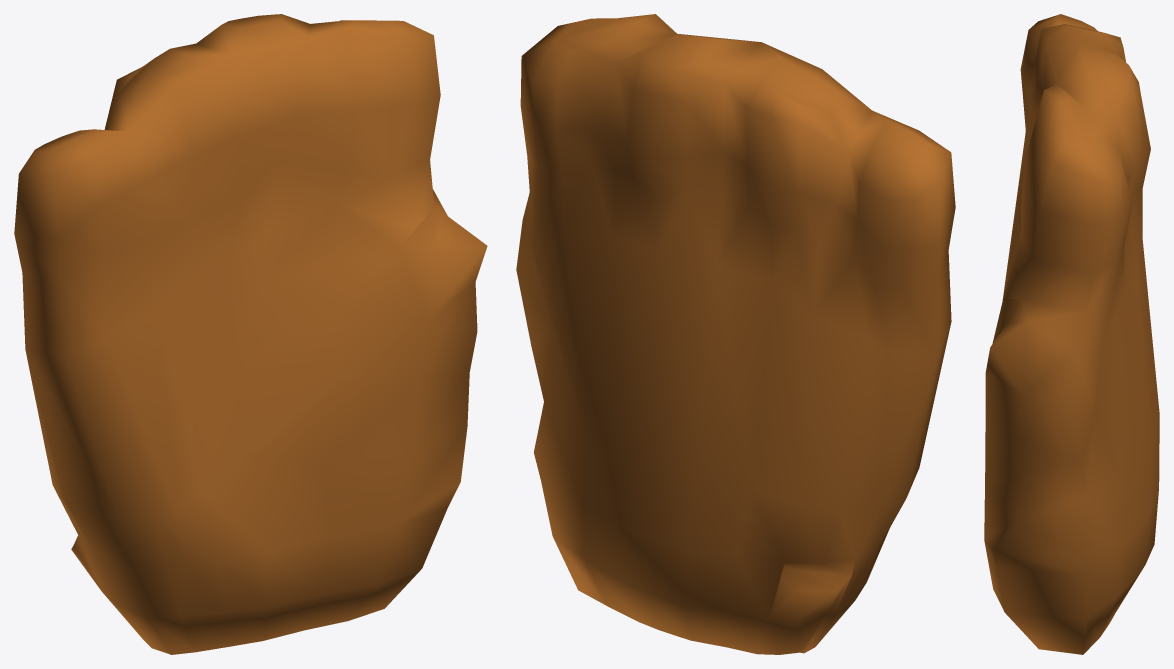
Rendered from palm.DAE.
3 views of the same model, side by side, from view 1: azimuth 30°, elevation 25°; view 2: azimuth 150°, elevation 25°; view 3: azimuth 270°, elevation 25° (orthographic). The views are drawn at different scales.
Parts seen in each view (by area): view 1: VIFS018; view 2: VIFS018; view 3: VIFS018.
Boxes of the visible parts, x1,y1,x2,y2 form: VIFS018: (14, 14, 487, 654); VIFS018: (516, 14, 955, 654); VIFS018: (984, 14, 1159, 654).
Size of the model in its own units: 9.43 by 12.37 by 3.57.
